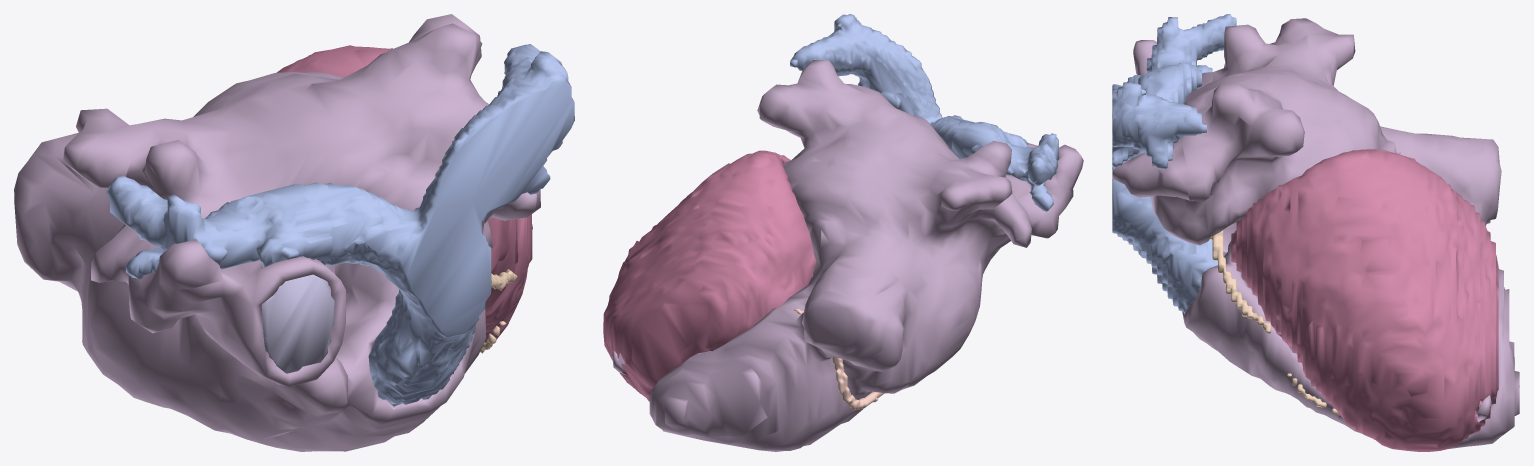
3 views of the same model, side by side, from view 1: azimuth 30°, elevation 25°; view 2: azimuth 150°, elevation 25°; view 3: azimuth 270°, elevation 25° (orthographic). The views are drawn at different scales.
Parts seen in each view (by area): view 1: heart-wall, pulmonary-artery, myocardium, right-atrium, left-coronary-artery; view 2: heart-wall, myocardium, pulmonary-artery, right-coronary-artery; view 3: myocardium, heart-wall, pulmonary-artery, left-coronary-artery.
Part boxes in pixels (left/top/right/bottom): heart-wall: left=14, top=14, right=540, bottom=451; pulmonary-artery: left=106, top=44, right=574, bottom=404; myocardium: left=276, top=45, right=532, bottom=343; right-atrium: left=261, top=274, right=334, bottom=373; left-coronary-artery: left=480, top=269, right=517, bottom=353; heart-wall: left=612, top=60, right=1083, bottom=451; myocardium: left=603, top=150, right=816, bottom=401; pulmonary-artery: left=790, top=14, right=1058, bottom=211; right-coronary-artery: left=794, top=296, right=884, bottom=410; myocardium: left=1231, top=149, right=1498, bottom=451; heart-wall: left=1112, top=18, right=1519, bottom=448; pulmonary-artery: left=1112, top=14, right=1236, bottom=313; left-coronary-artery: left=1210, top=230, right=1339, bottom=415.
Bounding box in the file's own units: 137 × 118 × 123.
